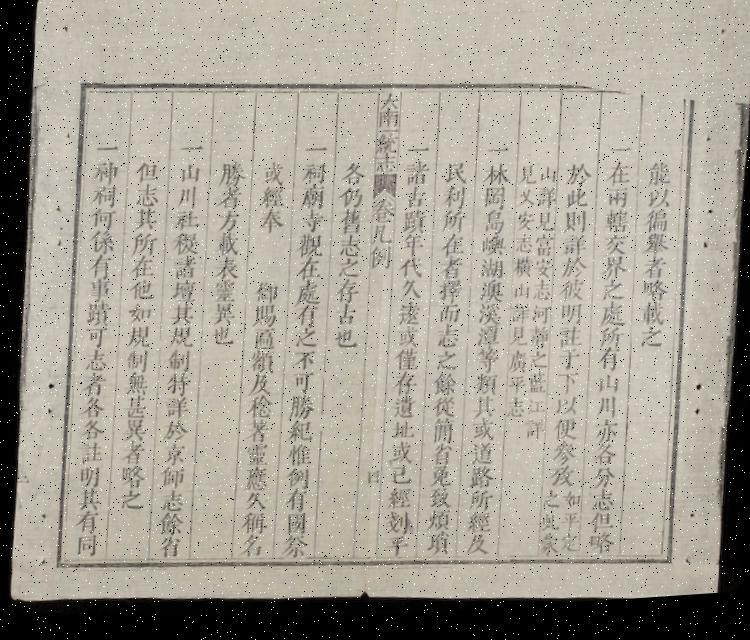c: (215, 160, 247, 192), (81, 300, 113, 330), (464, 444, 496, 474), (292, 234, 324, 263), (166, 300, 196, 330), (644, 167, 674, 197), (284, 395, 314, 425), (636, 307, 667, 336), (381, 512, 412, 541), (169, 231, 200, 260), (291, 282, 322, 311), (596, 308, 626, 337), (602, 167, 632, 196), (401, 164, 431, 193), (89, 159, 120, 187), (471, 352, 500, 381), (155, 488, 185, 516), (128, 231, 158, 259), (588, 424, 618, 452), (211, 232, 241, 260), (80, 347, 110, 375), (86, 228, 116, 256), (240, 468, 270, 496), (475, 284, 505, 312), (244, 396, 274, 424), (256, 210, 286, 238), (158, 418, 189, 445), (213, 188, 244, 215), (480, 167, 511, 194), (599, 216, 630, 243), (237, 534, 266, 562), (208, 302, 237, 330), (428, 421, 456, 450), (390, 374, 419, 402), (438, 190, 467, 218), (83, 276, 112, 304), (116, 464, 145, 492), (121, 371, 150, 399), (132, 183, 161, 211), (242, 420, 271, 448), (399, 213, 428, 241), (211, 256, 240, 284), (298, 187, 326, 216), (438, 214, 467, 242), (394, 304, 422, 333), (158, 442, 188, 469), (635, 332, 665, 359), (74, 439, 104, 466), (383, 489, 413, 516), (464, 469, 494, 496), (282, 444, 312, 471), (640, 216, 670, 243), (168, 256, 198, 283), (122, 324, 152, 351), (562, 168, 592, 195), (638, 262, 668, 289), (84, 253, 114, 280), (547, 446, 577, 473), (160, 395, 190, 422), (162, 372, 192, 399), (292, 259, 322, 286), (553, 331, 583, 358), (433, 284, 464, 310), (428, 376, 459, 402), (442, 164, 470, 192), (432, 328, 460, 356), (386, 443, 414, 471), (242, 444, 270, 472), (154, 511, 183, 538), (421, 535, 450, 562), (388, 398, 417, 425), (468, 399, 497, 426), (79, 371, 108, 398), (391, 351, 420, 378), (118, 418, 148, 444), (422, 512, 452, 538), (586, 495, 616, 521), (170, 209, 200, 235), (87, 206, 117, 232), (598, 262, 628, 288), (278, 536, 308, 562), (238, 512, 268, 538), (132, 160, 162, 186), (88, 184, 118, 210), (249, 306, 279, 332), (250, 282, 280, 308), (556, 285, 586, 311), (246, 352, 276, 378), (74, 486, 102, 513), (284, 421, 312, 448), (400, 190, 428, 217), (259, 163, 287, 190), (332, 281, 360, 308), (130, 207, 158, 234), (338, 164, 366, 191), (336, 212, 363, 240), (116, 488, 145, 514), (157, 466, 186, 492), (127, 255, 156, 281), (585, 538, 614, 564), (165, 326, 194, 352), (559, 240, 588, 266), (641, 239, 670, 265), (638, 286, 668, 311), (480, 191, 507, 218), (280, 490, 308, 516), (71, 510, 99, 536), (248, 329, 276, 355), (550, 422, 578, 448), (334, 238, 362, 264), (644, 194, 672, 220), (591, 401, 619, 427), (330, 306, 358, 332), (424, 490, 452, 516), (546, 470, 574, 496), (120, 394, 148, 420), (588, 472, 616, 498), (438, 238, 466, 264), (558, 262, 586, 288), (560, 216, 588, 242), (78, 395, 107, 420), (467, 423, 496, 448), (475, 308, 502, 334), (123, 348, 150, 374), (594, 354, 620, 381), (554, 354, 581, 380), (480, 216, 507, 242), (118, 442, 146, 467), (280, 514, 308, 539), (463, 515, 491, 540), (552, 378, 580, 403), (428, 400, 456, 425), (210, 281, 238, 306), (127, 279, 155, 304), (600, 240, 628, 265), (74, 464, 102, 489), (299, 164, 327, 189), (257, 188, 285, 213), (174, 186, 200, 212), (519, 423, 545, 449), (288, 372, 314, 398), (398, 237, 425, 262), (432, 353, 459, 378), (471, 378, 498, 403), (213, 211, 240, 236), (437, 261, 464, 286), (246, 375, 273, 400), (464, 494, 492, 518), (154, 536, 182, 560), (478, 240, 506, 264), (124, 302, 152, 326), (169, 280, 197, 304), (290, 330, 318, 354), (392, 330, 420, 354), (598, 286, 626, 310), (164, 350, 192, 374), (397, 260, 425, 284), (476, 262, 504, 286), (593, 379, 621, 403), (370, 202, 394, 230), (330, 330, 358, 354), (282, 469, 310, 493), (388, 422, 416, 446), (586, 518, 614, 542), (291, 308, 319, 332), (596, 333, 624, 357), (461, 538, 490, 561), (426, 469, 452, 494), (427, 447, 453, 472), (562, 193, 588, 218), (367, 250, 392, 276), (590, 449, 616, 474), (77, 418, 104, 442), (381, 538, 408, 562), (337, 190, 364, 214), (474, 330, 501, 354), (297, 214, 324, 238), (434, 308, 461, 332), (556, 310, 583, 334), (82, 326, 110, 349), (71, 534, 97, 558), (290, 352, 316, 376), (604, 194, 630, 218), (335, 260, 361, 284), (176, 163, 202, 187), (552, 401, 578, 425), (526, 330, 550, 356), (240, 492, 268, 514), (176, 140, 206, 160), (510, 262, 534, 287), (208, 327, 234, 350), (93, 140, 122, 160), (397, 283, 422, 306), (503, 401, 526, 426), (386, 468, 412, 490), (506, 355, 528, 381), (534, 193, 557, 217), (301, 144, 330, 163), (532, 240, 554, 265), (556, 538, 579, 561), (525, 377, 547, 401), (537, 538, 559, 562), (514, 216, 536, 240), (368, 228, 392, 250), (530, 286, 552, 310), (403, 146, 432, 164), (482, 148, 511, 166), (508, 309, 530, 332), (375, 137, 397, 160), (605, 148, 633, 166), (517, 168, 538, 192), (376, 114, 398, 136), (505, 379, 526, 402), (512, 239, 533, 262), (508, 331, 528, 355), (510, 287, 532, 308), (526, 355, 547, 377), (534, 217, 554, 240), (529, 310, 549, 332), (558, 517, 578, 539), (539, 518, 559, 540), (532, 264, 552, 286), (541, 494, 560, 517), (537, 171, 557, 192), (560, 496, 580, 517), (516, 193, 536, 214), (524, 402, 544, 422), (379, 97, 400, 116), (363, 472, 380, 492), (374, 164, 396, 179), (374, 156, 396, 168)
